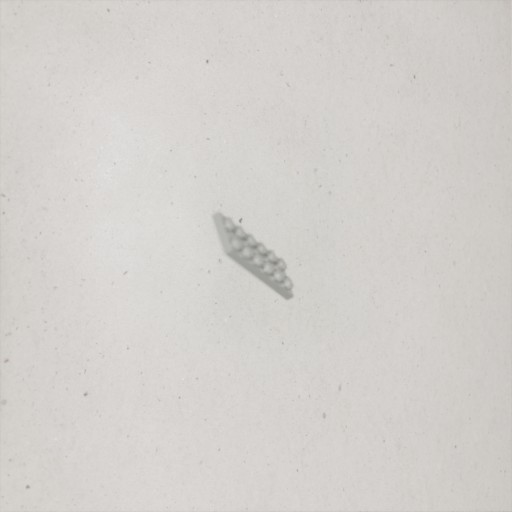lego: (211, 211, 295, 301)
